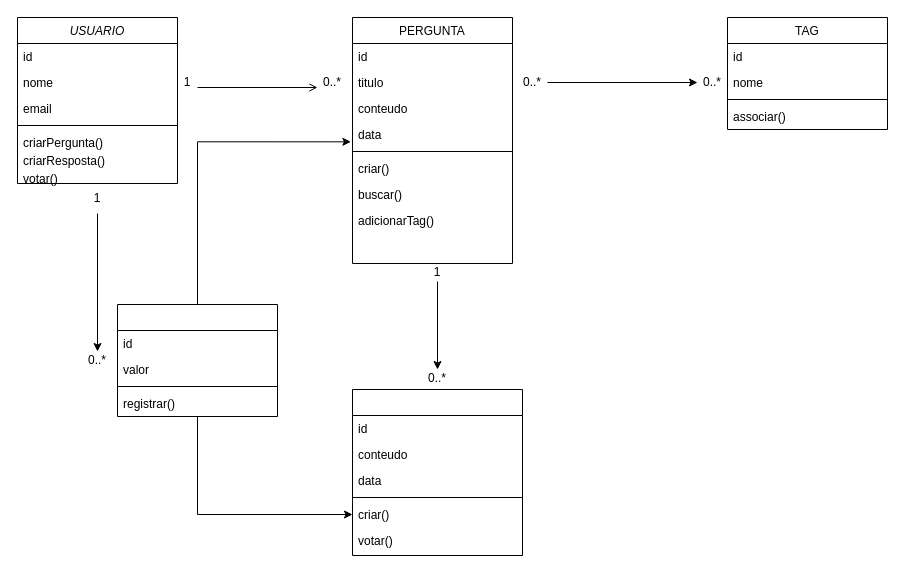
This 905x574 diagram has some shape labels left out. Here are the shapes that lost their labels. From the top down, the box of each, then its label:
(116, 304, 278, 416): VOTO
(352, 388, 522, 556): RESPOSTA
